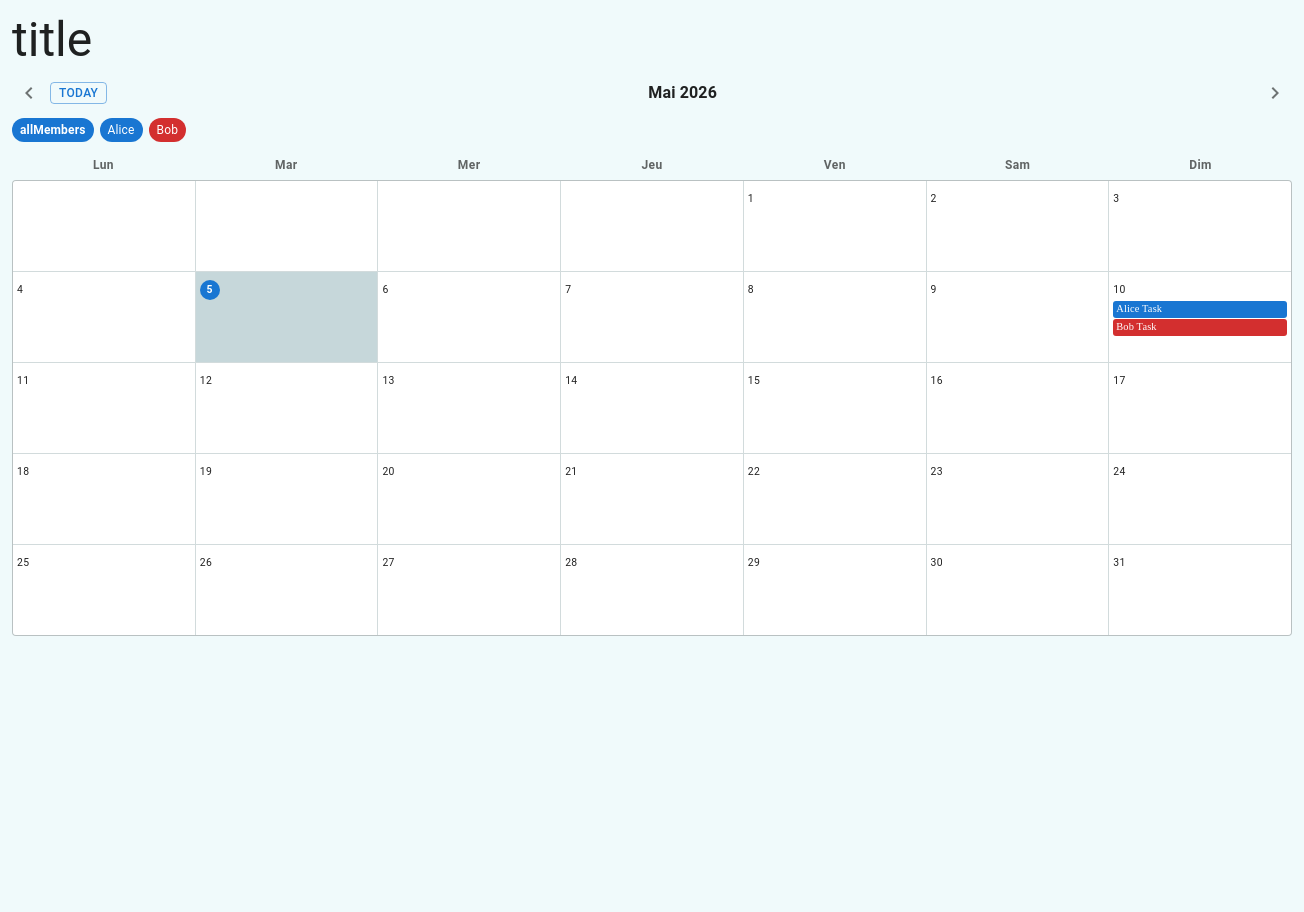
it: GroupCalendar › filters events when a member chip is toggled off
Expected: the button "Alice Task" is shown, [1113, 301, 1287, 318]
Expected: the button "Bob Task" is shown, [1113, 319, 1287, 336]
// Click Bob's chip to toggle off
Click the button "Bob": click(167, 130) [149, 118, 186, 142]
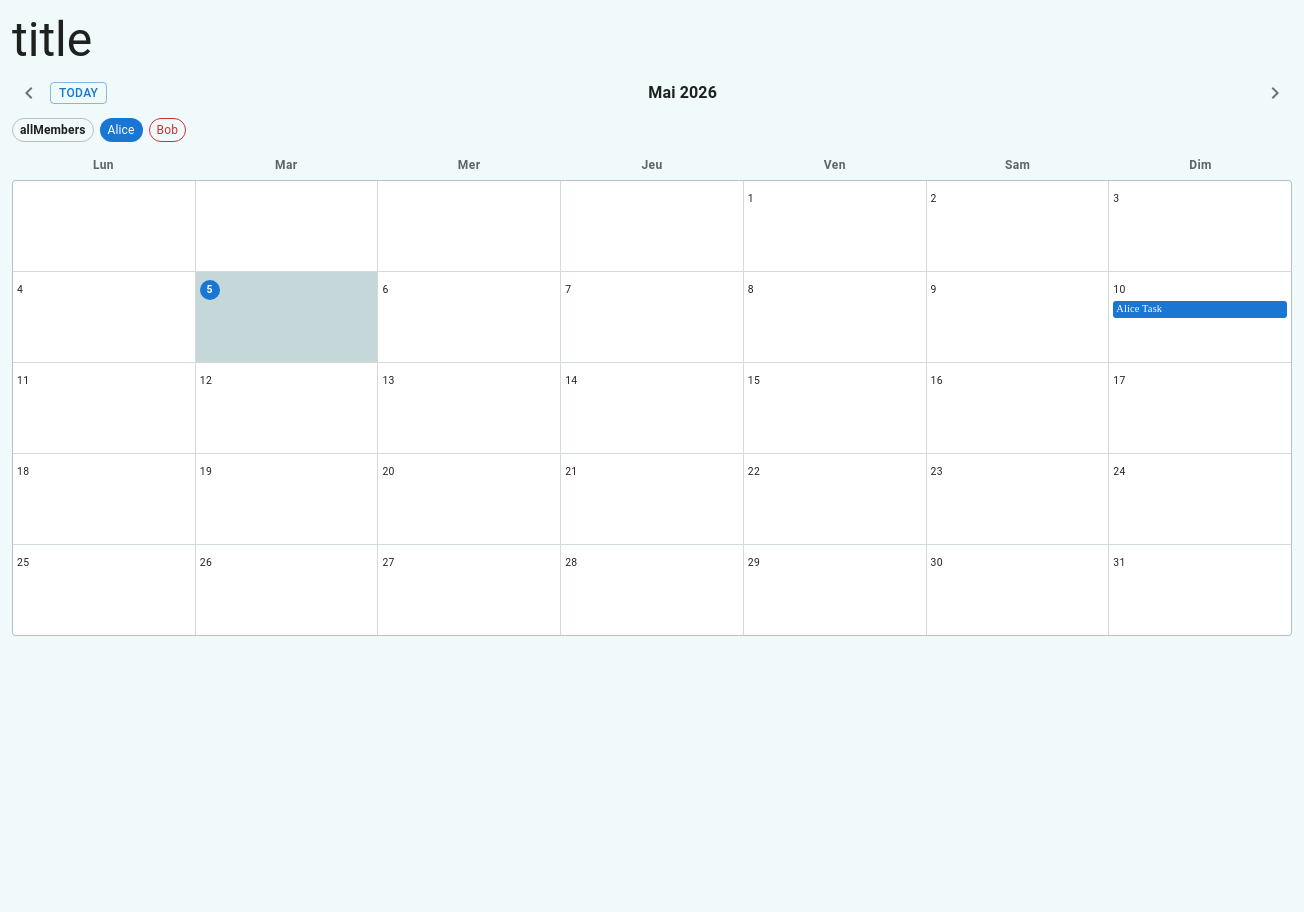
Expected: the button "Alice Task" is shown, [1113, 301, 1287, 318]
Now the button "Bob Task" is gone
